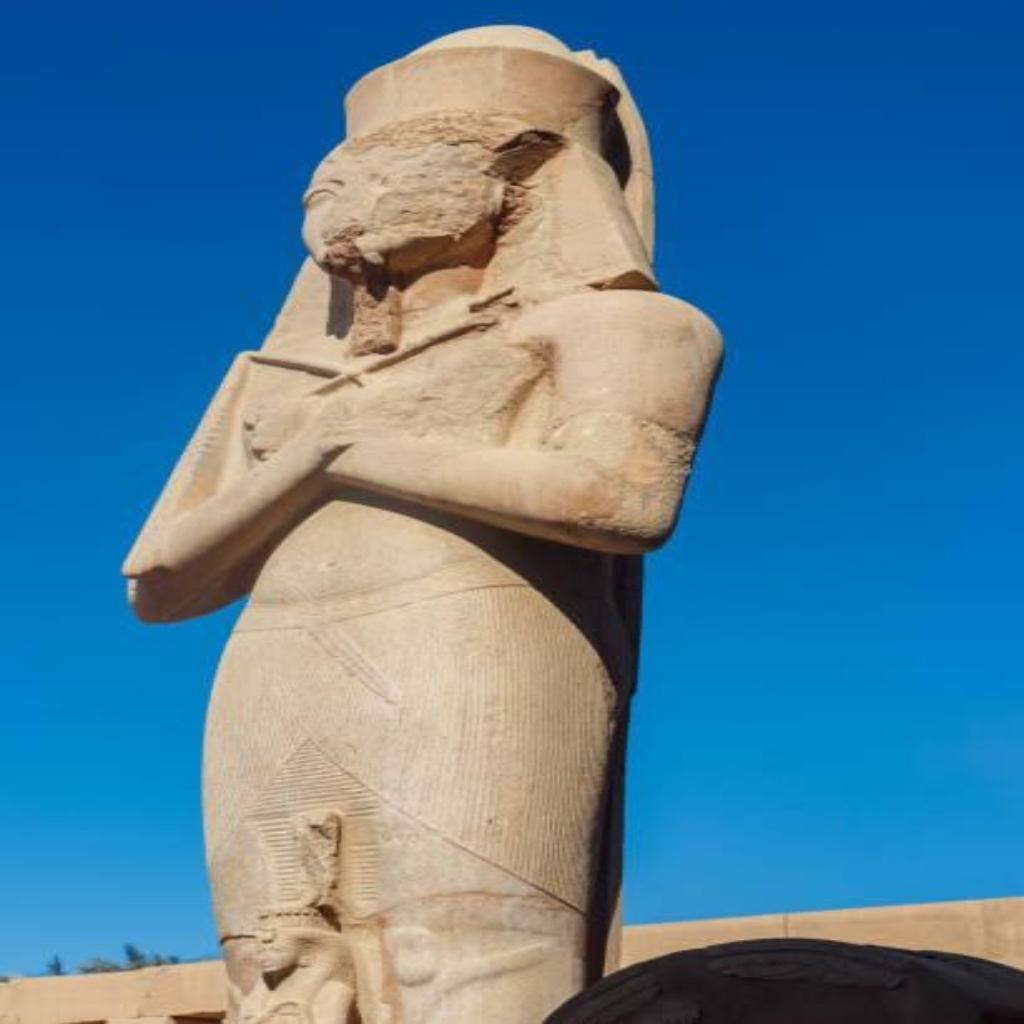Standing Statue of King Ramses II: (116, 22, 730, 1022)
